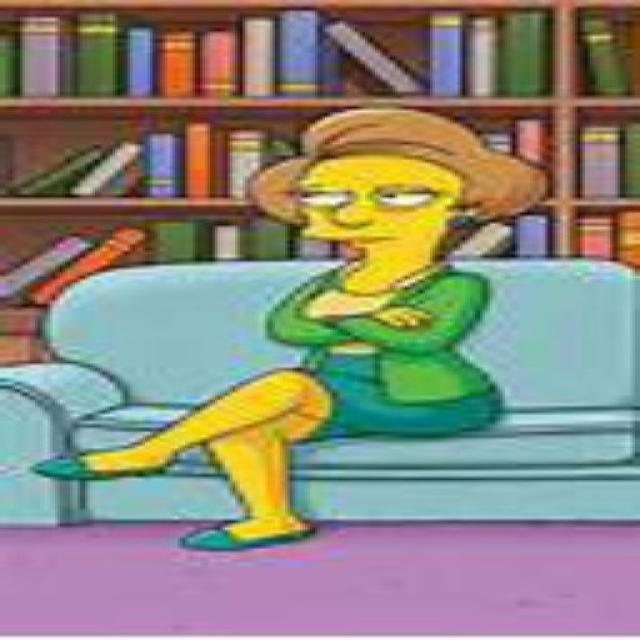Edna Krappel: (245, 104, 555, 270)
